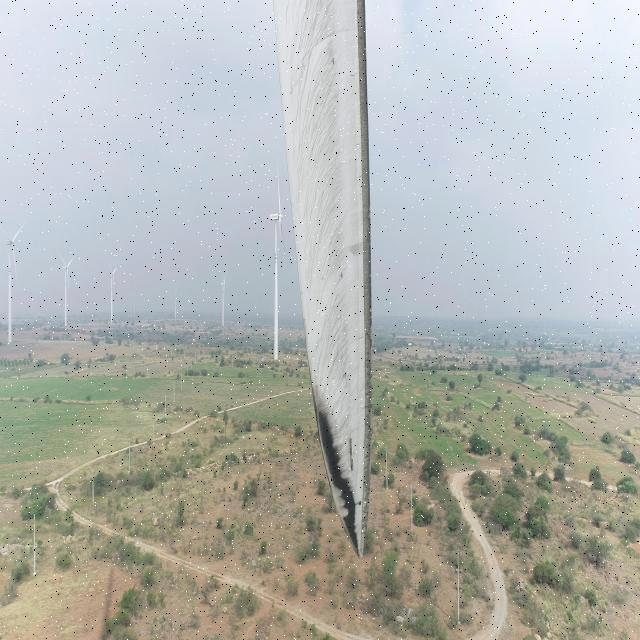Dirt: (276, 0, 371, 555)
Oil LEAKAGE: (317, 410, 363, 559)
Pin Hole: (356, 498, 365, 511)
